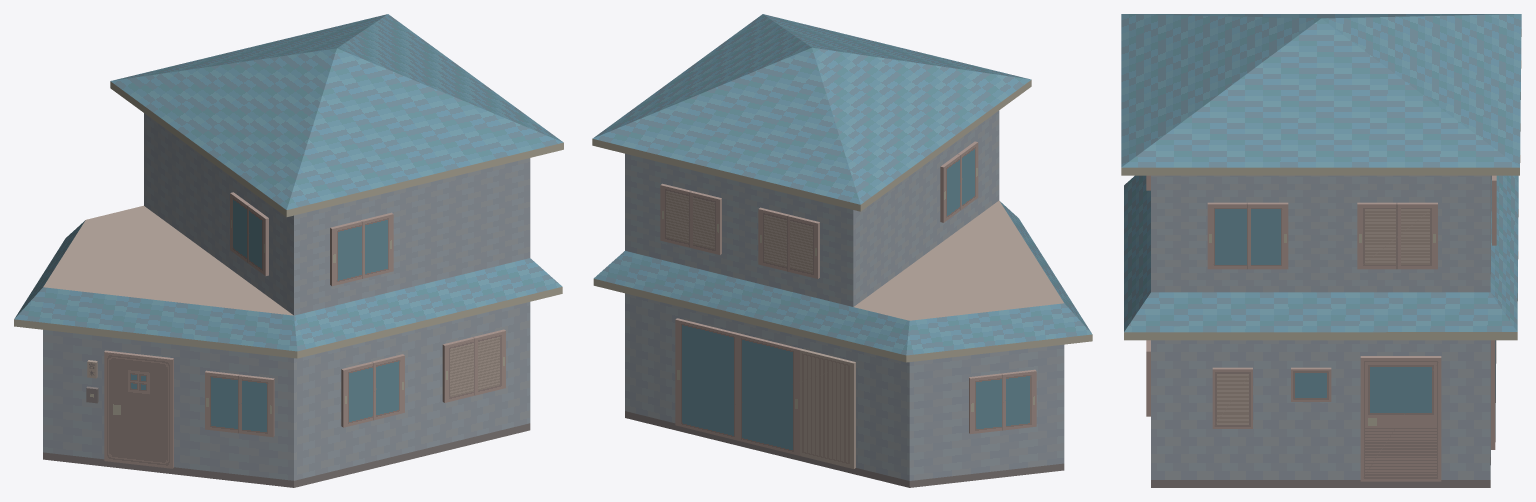
The model's file is 00fa_Motoki_Residence.glb.
3 renders of one model, left to right at view 1: azimuth 30°, elevation 25°; view 2: azimuth 150°, elevation 25°; view 3: azimuth 270°, elevation 25°, orthographic. The views are drawn at different scales.
Parts seen in each view (by area): view 1: part_0; view 2: part_0; view 3: part_0.
Part boxes in pixels (x1,y1,x2,y2): part_0: [14, 14, 563, 487]; part_0: [592, 14, 1092, 487]; part_0: [1121, 14, 1521, 487].
Bounding box in the file's own units: 6.51 × 4.98 × 4.47.
1 material, 1 textured.
